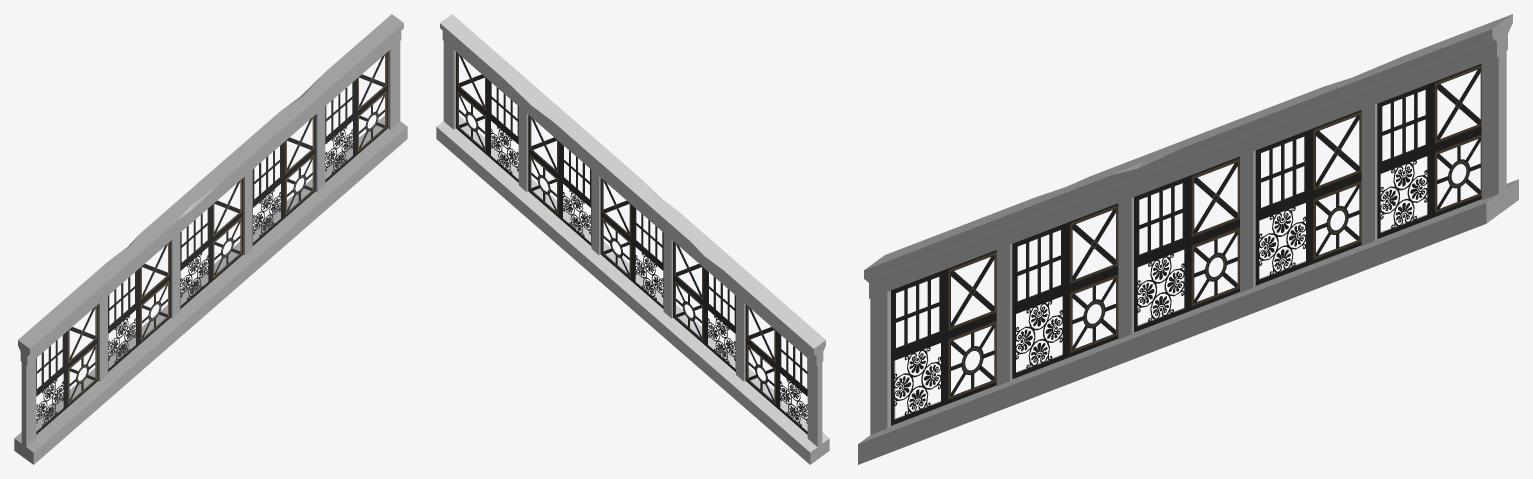
Rendered from SM_Bld_Wall_Balcony_Stairs_01.fbx.
The picture shows the model from 3 angles, left to right: view 1: azimuth 30°, elevation 25°; view 2: azimuth 150°, elevation 25°; view 3: azimuth 330°, elevation 25°; orthographic projection. The views are drawn at different scales.
Parts seen in each view (by area): view 1: SM_Bld_Wall_Balcony_Stairs_01; view 2: SM_Bld_Wall_Balcony_Stairs_01; view 3: SM_Bld_Wall_Balcony_Stairs_01.
Boxes of the visible parts, x1=… form: SM_Bld_Wall_Balcony_Stairs_01: x1=14, y1=14, x2=407, y2=464; SM_Bld_Wall_Balcony_Stairs_01: x1=436, y1=14, x2=829, y2=464; SM_Bld_Wall_Balcony_Stairs_01: x1=858, y1=14, x2=1518, y2=464.
Bounding box in the file's own units: 250 × 222 × 22.5.
